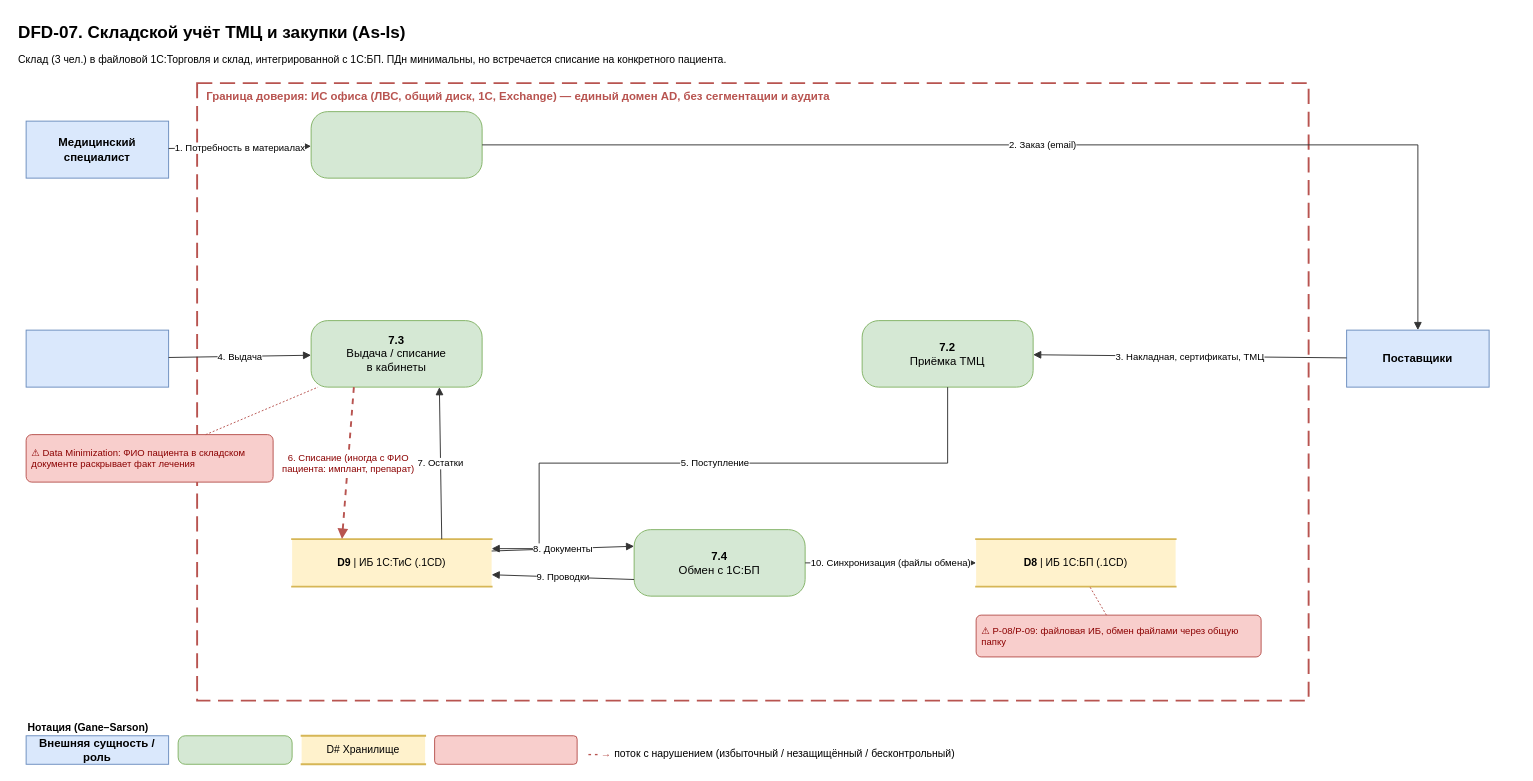
The diagram is 1533 pixels wide and 781 high, and some of its shapes have lost their labels. Each missing label, with the centre of its shape:
7.1 Заявка на закупку: (x=396, y=144)
Кладовщик: (x=97, y=358)
Процесс: (x=234, y=749)
⚠ P-xx — проблема (см. problems.md): (x=505, y=749)
